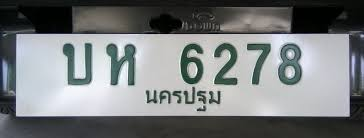Non-Bangkok: (142, 85, 221, 114)
